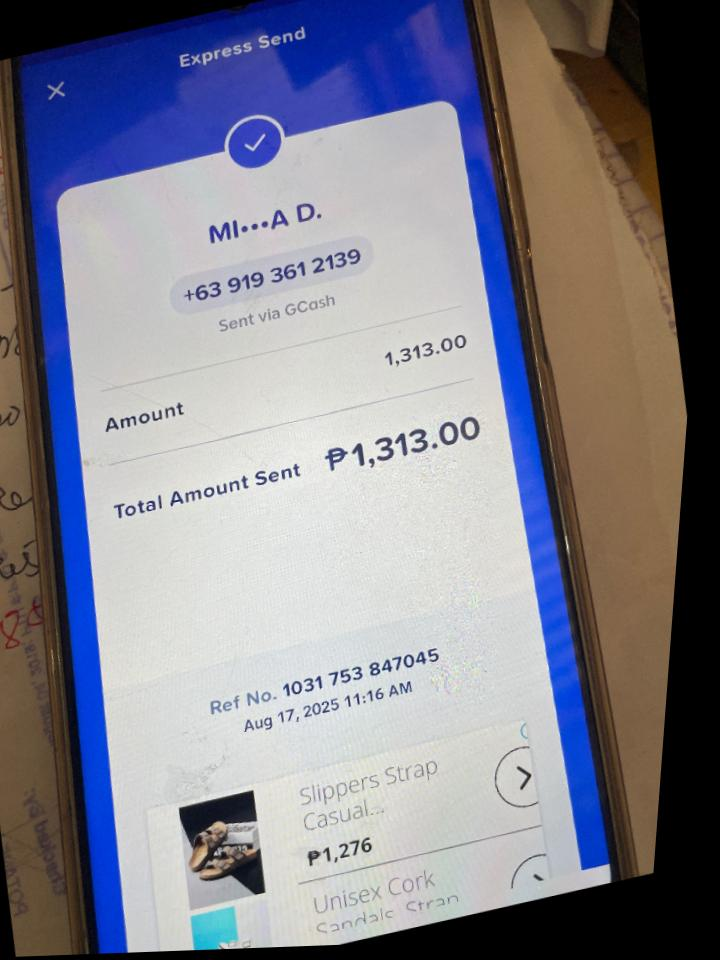Receipt: (21, 0, 608, 954)
